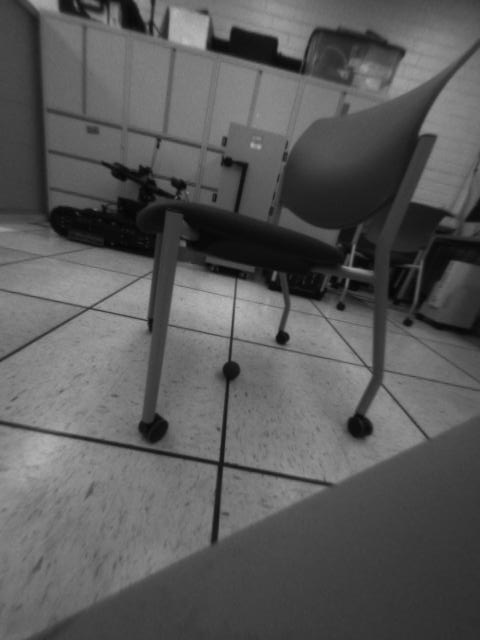dogtoy: (217, 354, 248, 383)
